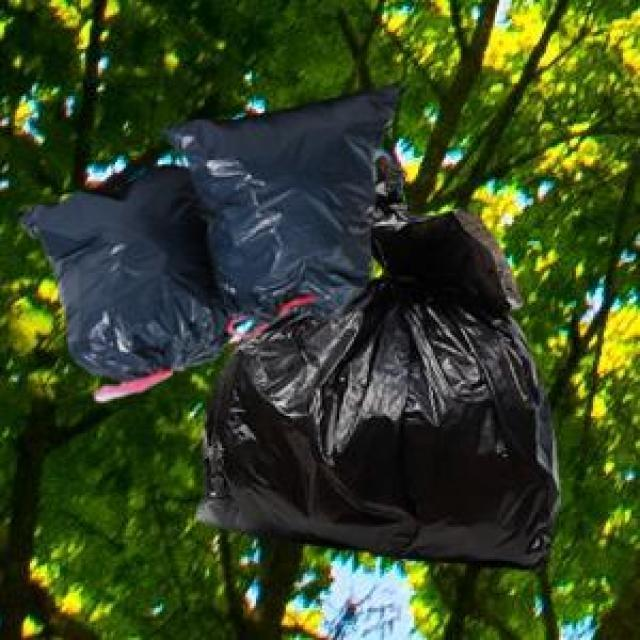Vinyl: (26, 89, 558, 566)
